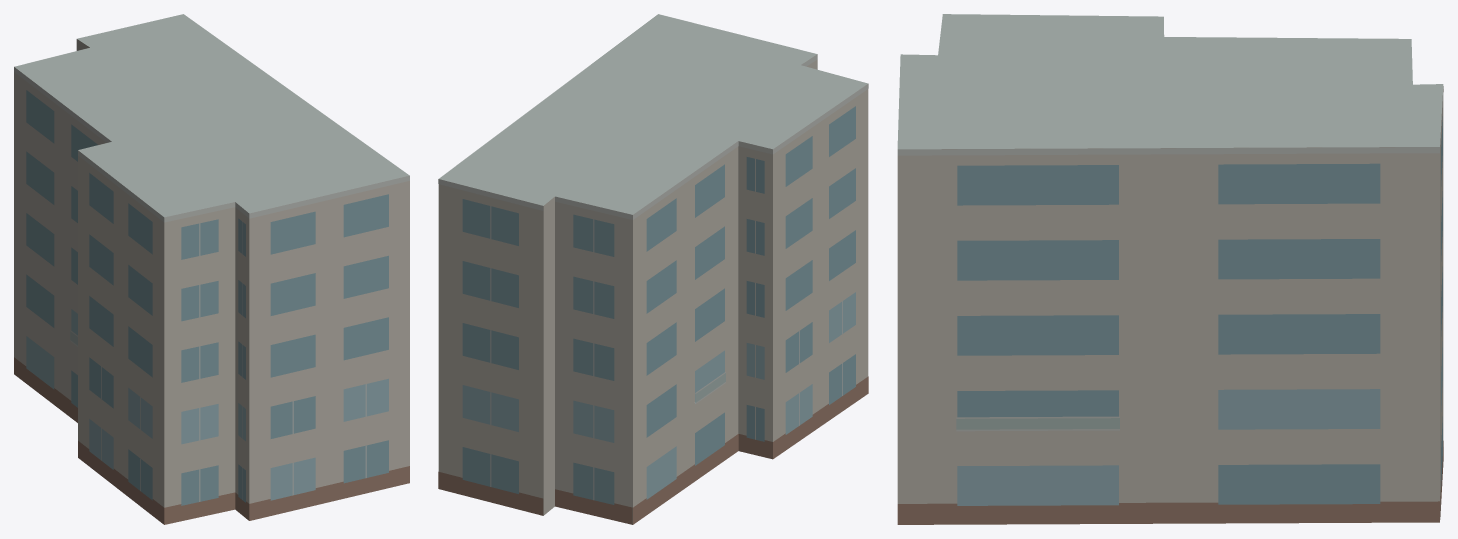
The model's file is survey-upis-32775383.glb.
3 renders of one model, left to right at view 1: azimuth 30°, elevation 25°; view 2: azimuth 150°, elevation 25°; view 3: azimuth 270°, elevation 25°, orthographic. The views are drawn at different scales.
Parts seen in each view (by area): view 1: survey-upis-32775383.tmp; view 2: survey-upis-32775383.tmp; view 3: survey-upis-32775383.tmp.
Part boxes in pixels (box(x1,y1,x2,y2)): survey-upis-32775383.tmp: box(14, 14, 409, 524); survey-upis-32775383.tmp: box(438, 14, 868, 524); survey-upis-32775383.tmp: box(897, 14, 1443, 524).
Size of the model in its own units: 11.23 by 14.5 by 19.11.
